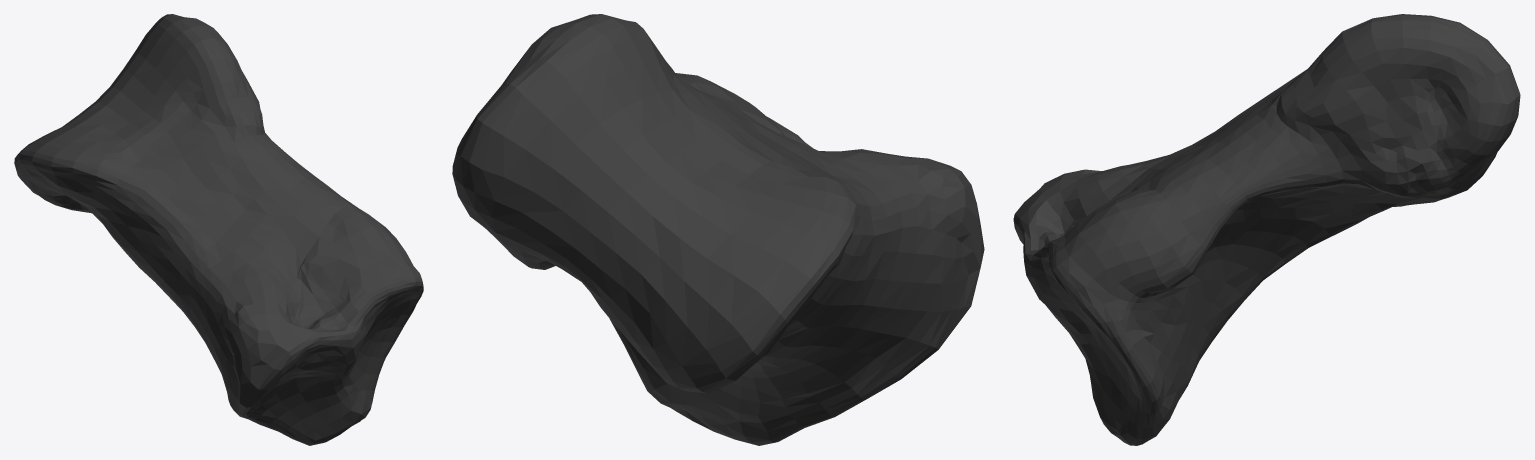
The model's file is Middle_phalange_4.glb.
The picture shows the model from 3 angles, left to right: view 1: azimuth 30°, elevation 25°; view 2: azimuth 150°, elevation 25°; view 3: azimuth 270°, elevation 25°; orthographic projection. The views are drawn at different scales.
Visible parts, largest first — view 1: Middle_phalange_4; view 2: Middle_phalange_4; view 3: Middle_phalange_4.
Boxes of the visible parts, <box> form: Middle_phalange_4: <box>14,14,423,445</box>; Middle_phalange_4: <box>452,14,984,445</box>; Middle_phalange_4: <box>1013,14,1520,445</box>.
Bounding box in the file's own units: 0.1441 × 0.1757 × 0.1966.
Materials: 1 (1 with a texture image).
